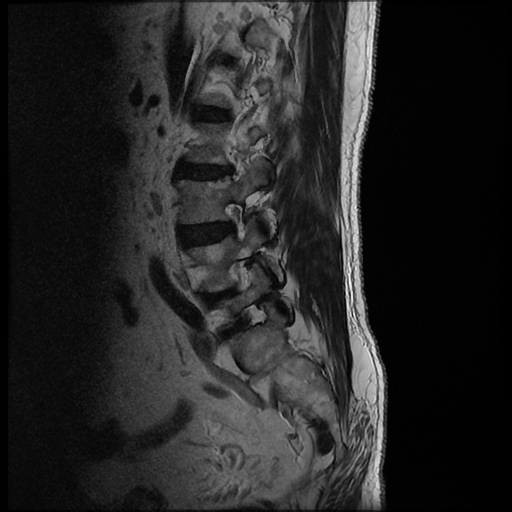LFS0: (215, 191, 268, 248)
